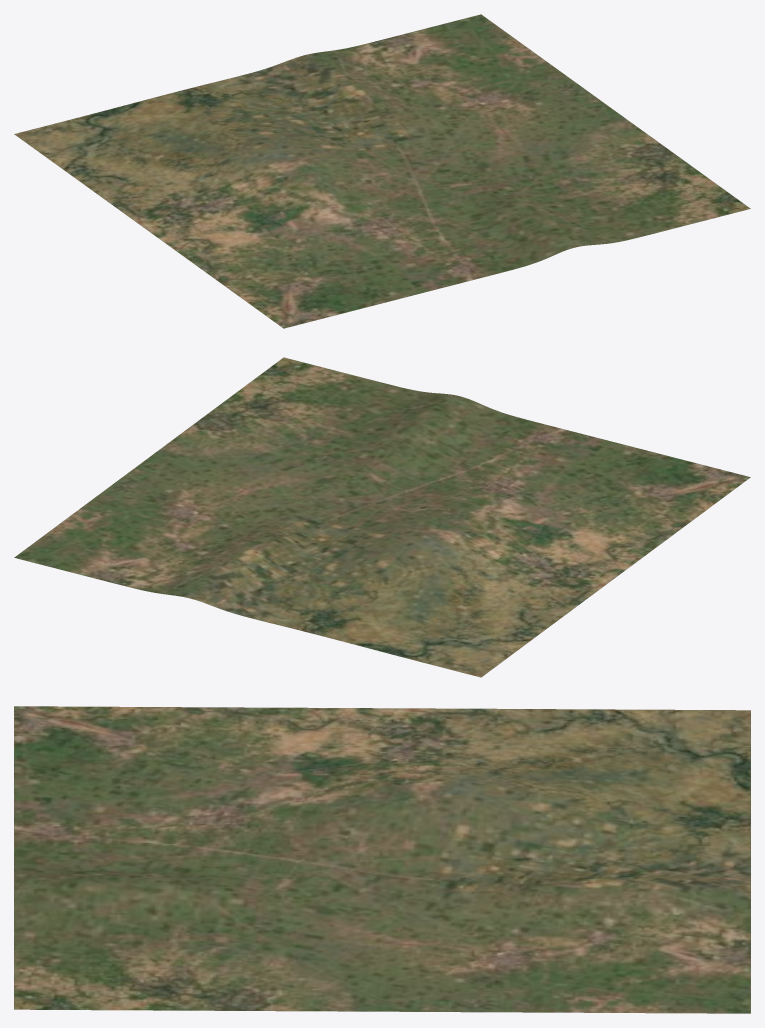
The picture shows the model from 3 angles, top to bottom: view 1: azimuth 30°, elevation 25°; view 2: azimuth 150°, elevation 25°; view 3: azimuth 270°, elevation 25°; orthographic projection. The views are drawn at different scales.
Parts seen in each view (by area): view 1: geometry_0; view 2: geometry_0; view 3: geometry_0.
Part boxes in pixels (<box>): geometry_0: <box>14,14,750,328</box>; geometry_0: <box>14,357,750,677</box>; geometry_0: <box>14,706,750,1013</box>.
Size of the model in its own units: 10000 by 386 by 10000.
Materials: 1 (1 with a texture image).
